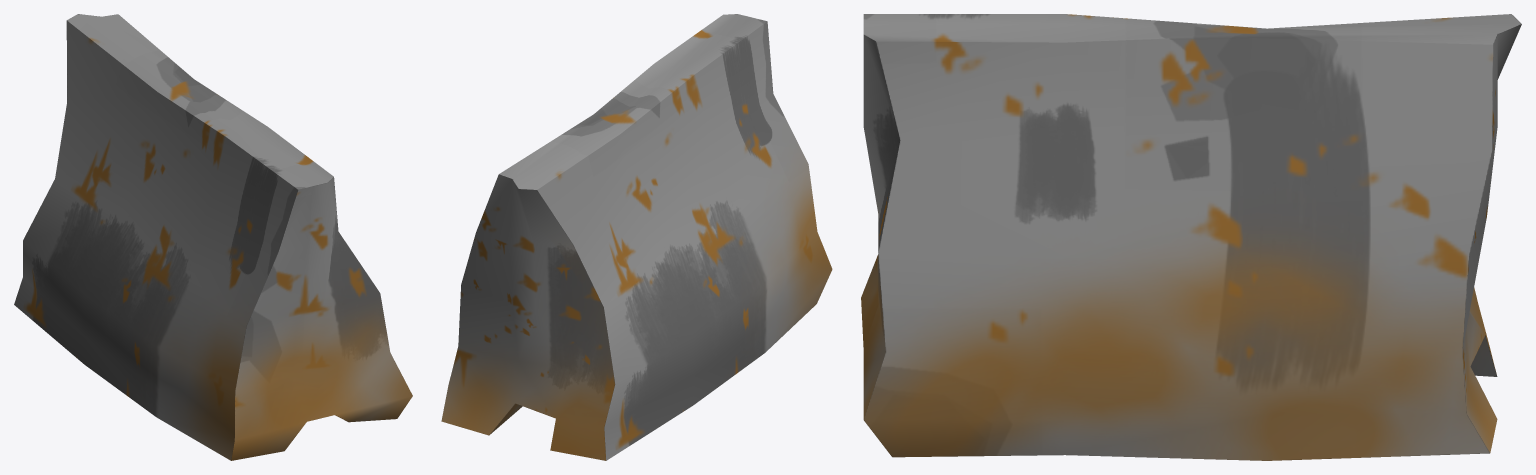
Rendered from barricade_02.fbx.
3 renders of one model, left to right at view 1: azimuth 30°, elevation 25°; view 2: azimuth 150°, elevation 25°; view 3: azimuth 270°, elevation 25°, orthographic. The views are drawn at different scales.
Visible parts, largest first — view 1: barricade_2; view 2: barricade_2; view 3: barricade_2.
Part boxes in pixels (x1=…): barricade_2: x1=14, y1=14, x2=412, y2=460; barricade_2: x1=441, y1=14, x2=832, y2=460; barricade_2: x1=861, y1=14, x2=1521, y2=460.
Size of the model in its own units: 2.4 by 3.28 by 5.33.
